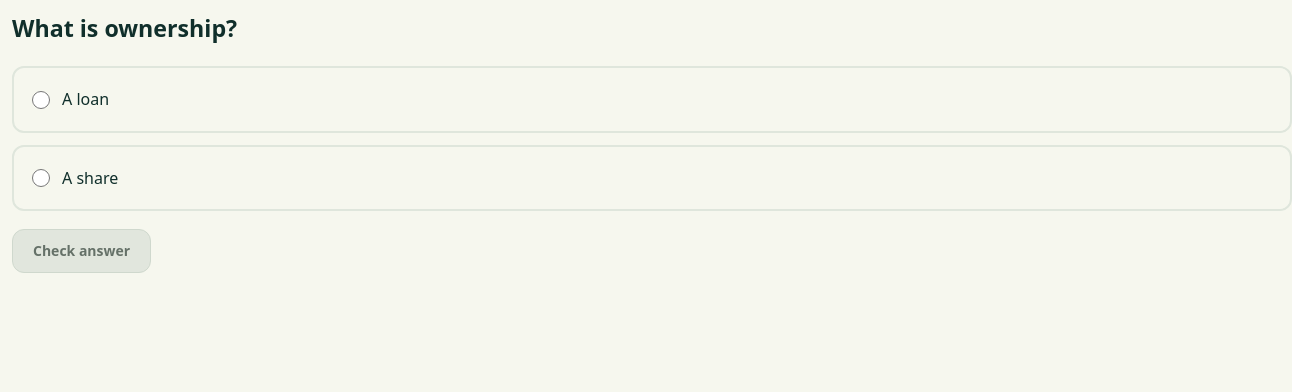
explains mistakes, permits retries, and accepts the correct answer once
Later steps or results of the test are not shown.
Click the radio button labelled "A loan": [41, 100] box [32,91,50,109]
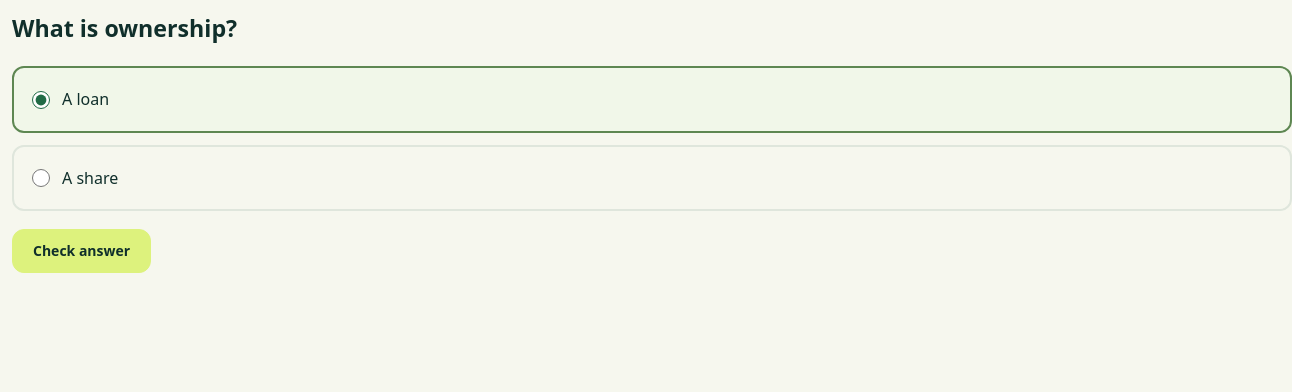
Click the button "Check answer": [82, 251] box [12,229,151,274]
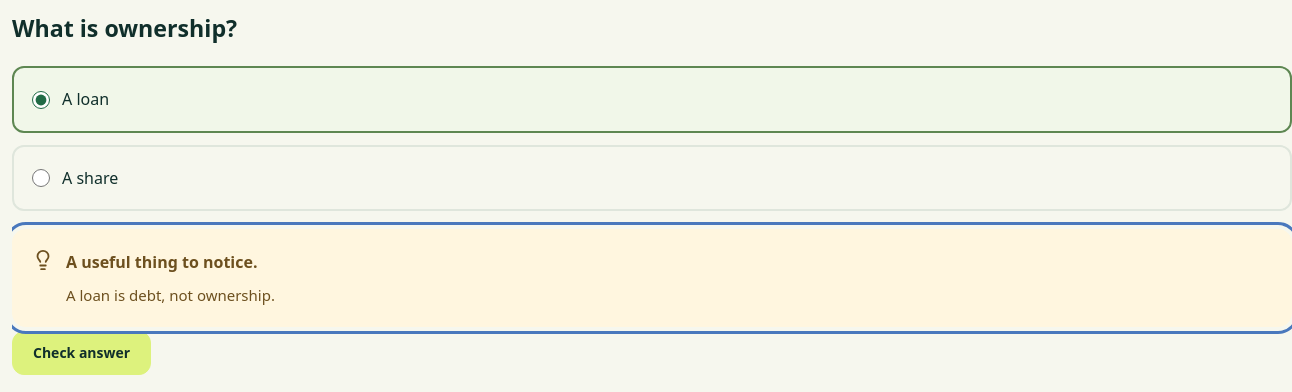
Result: the message shows "debt" at [66,285,275,305]
